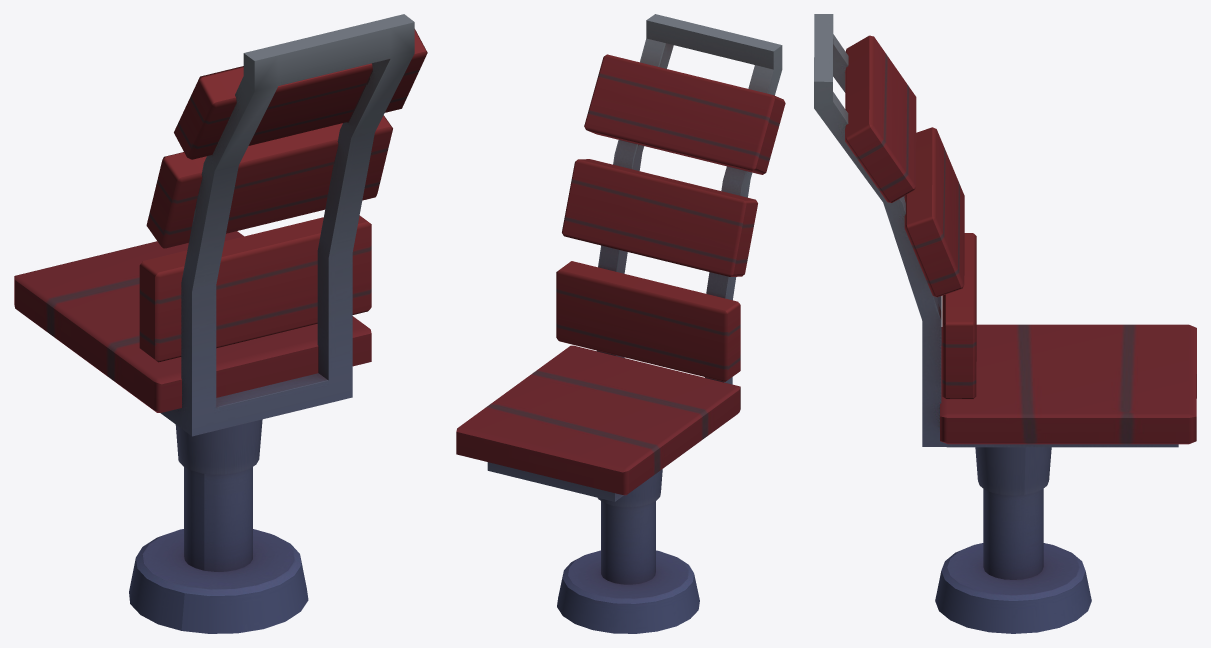
Rendered from FUT0510018.fbx.
The picture shows the model from 3 angles, left to right: view 1: azimuth 30°, elevation 25°; view 2: azimuth 150°, elevation 25°; view 3: azimuth 270°, elevation 25°; orthographic projection. The views are drawn at different scales.
Parts seen in each view (by area): view 1: smFUT0510018; view 2: smFUT0510018; view 3: smFUT0510018.
Boxes of the visible parts, x1,y1,x2,y2 form: smFUT0510018: (14,14,427,633); smFUT0510018: (456,14,785,633); smFUT0510018: (814,14,1196,633).
Bounding box in the file's own units: 61.88 × 174 × 109.
1 material, 1 textured.
